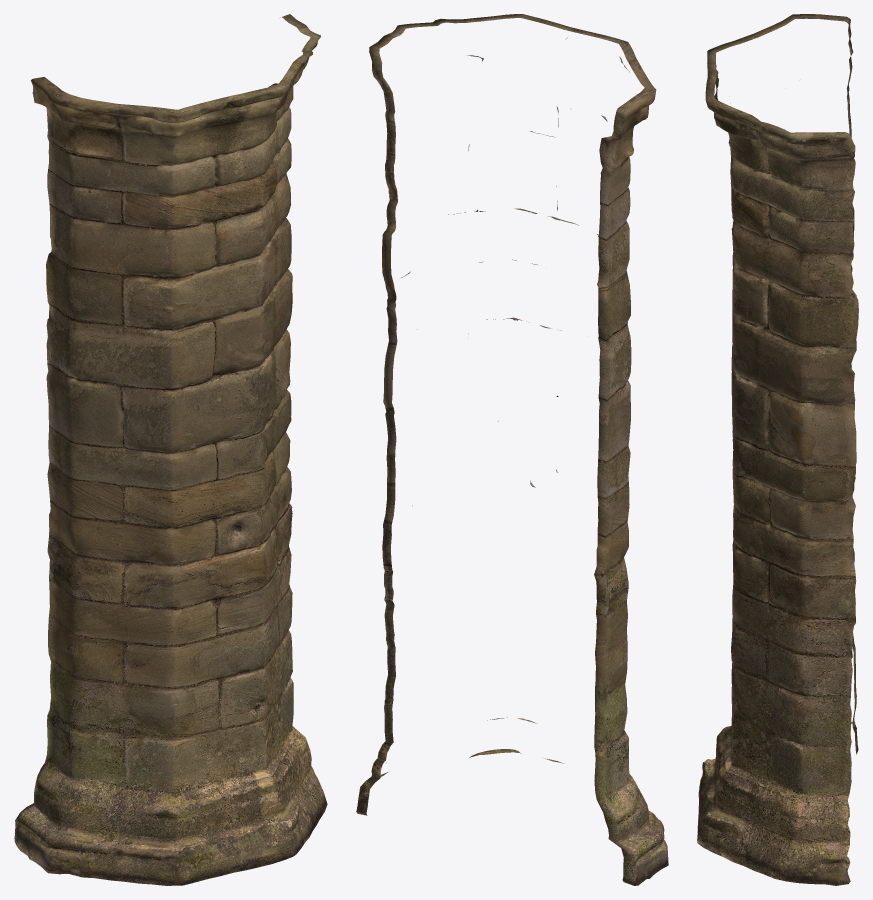
The model's file is SaeuleOhneNanite.gltf.
The picture shows the model from 3 angles, left to right: view 1: azimuth 30°, elevation 25°; view 2: azimuth 150°, elevation 25°; view 3: azimuth 270°, elevation 25°; orthographic projection. The views are drawn at different scales.
Parts seen in each view (by area): view 1: StaticMeshActor_4_StaticMeshComponent0; view 2: StaticMeshActor_4_StaticMeshComponent0; view 3: StaticMeshActor_4_StaticMeshComponent0.
Boxes of the visible parts, bbox=[...] form: StaticMeshActor_4_StaticMeshComponent0: bbox=[14, 14, 327, 885]; StaticMeshActor_4_StaticMeshComponent0: bbox=[356, 14, 668, 885]; StaticMeshActor_4_StaticMeshComponent0: bbox=[697, 14, 858, 885].
Bounding box in the file's own units: 1.16 × 3.04 × 0.5969.
1 material, 1 textured.
